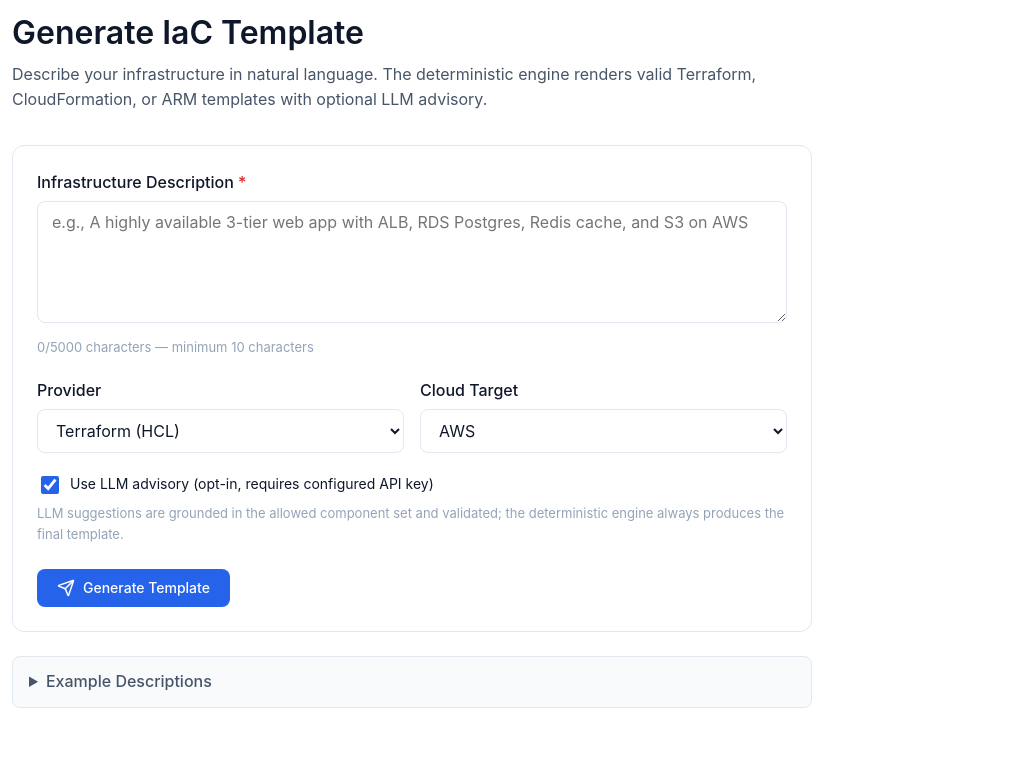
GenerateForm › shows error for empty description
The width and height of the screenshot is (1036, 780).
Click the button "Generate Template": (133, 588) 37,569 -> 230,607
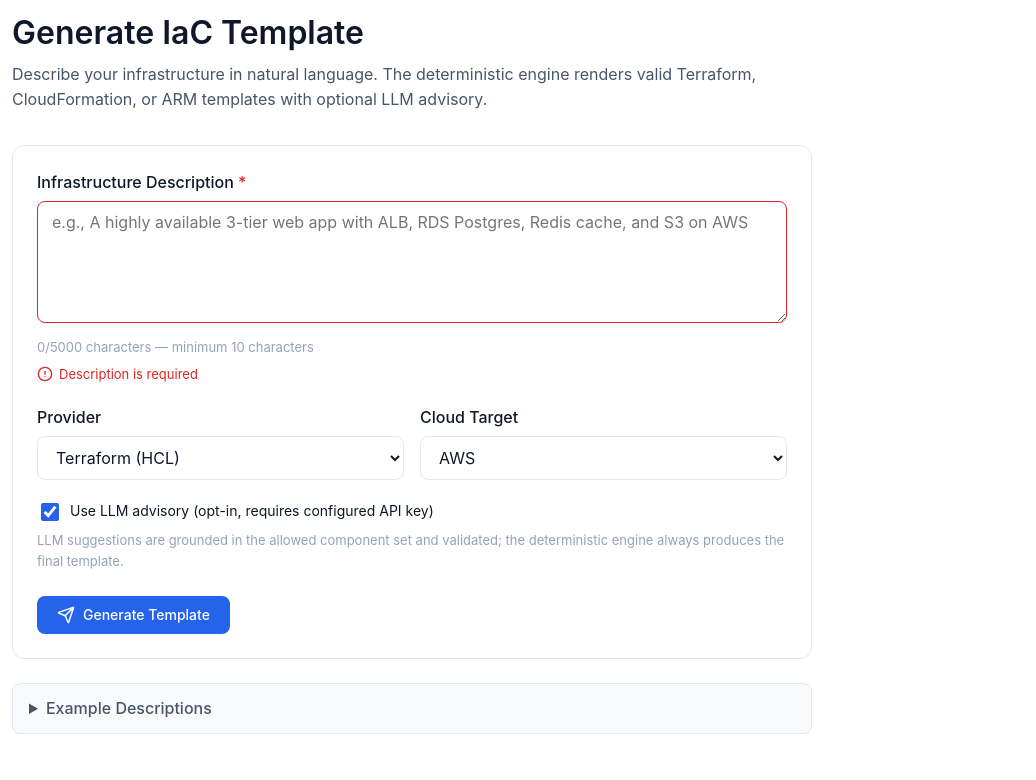
Check: the text "Description is required" is shown, box 37,366 -> 198,382
